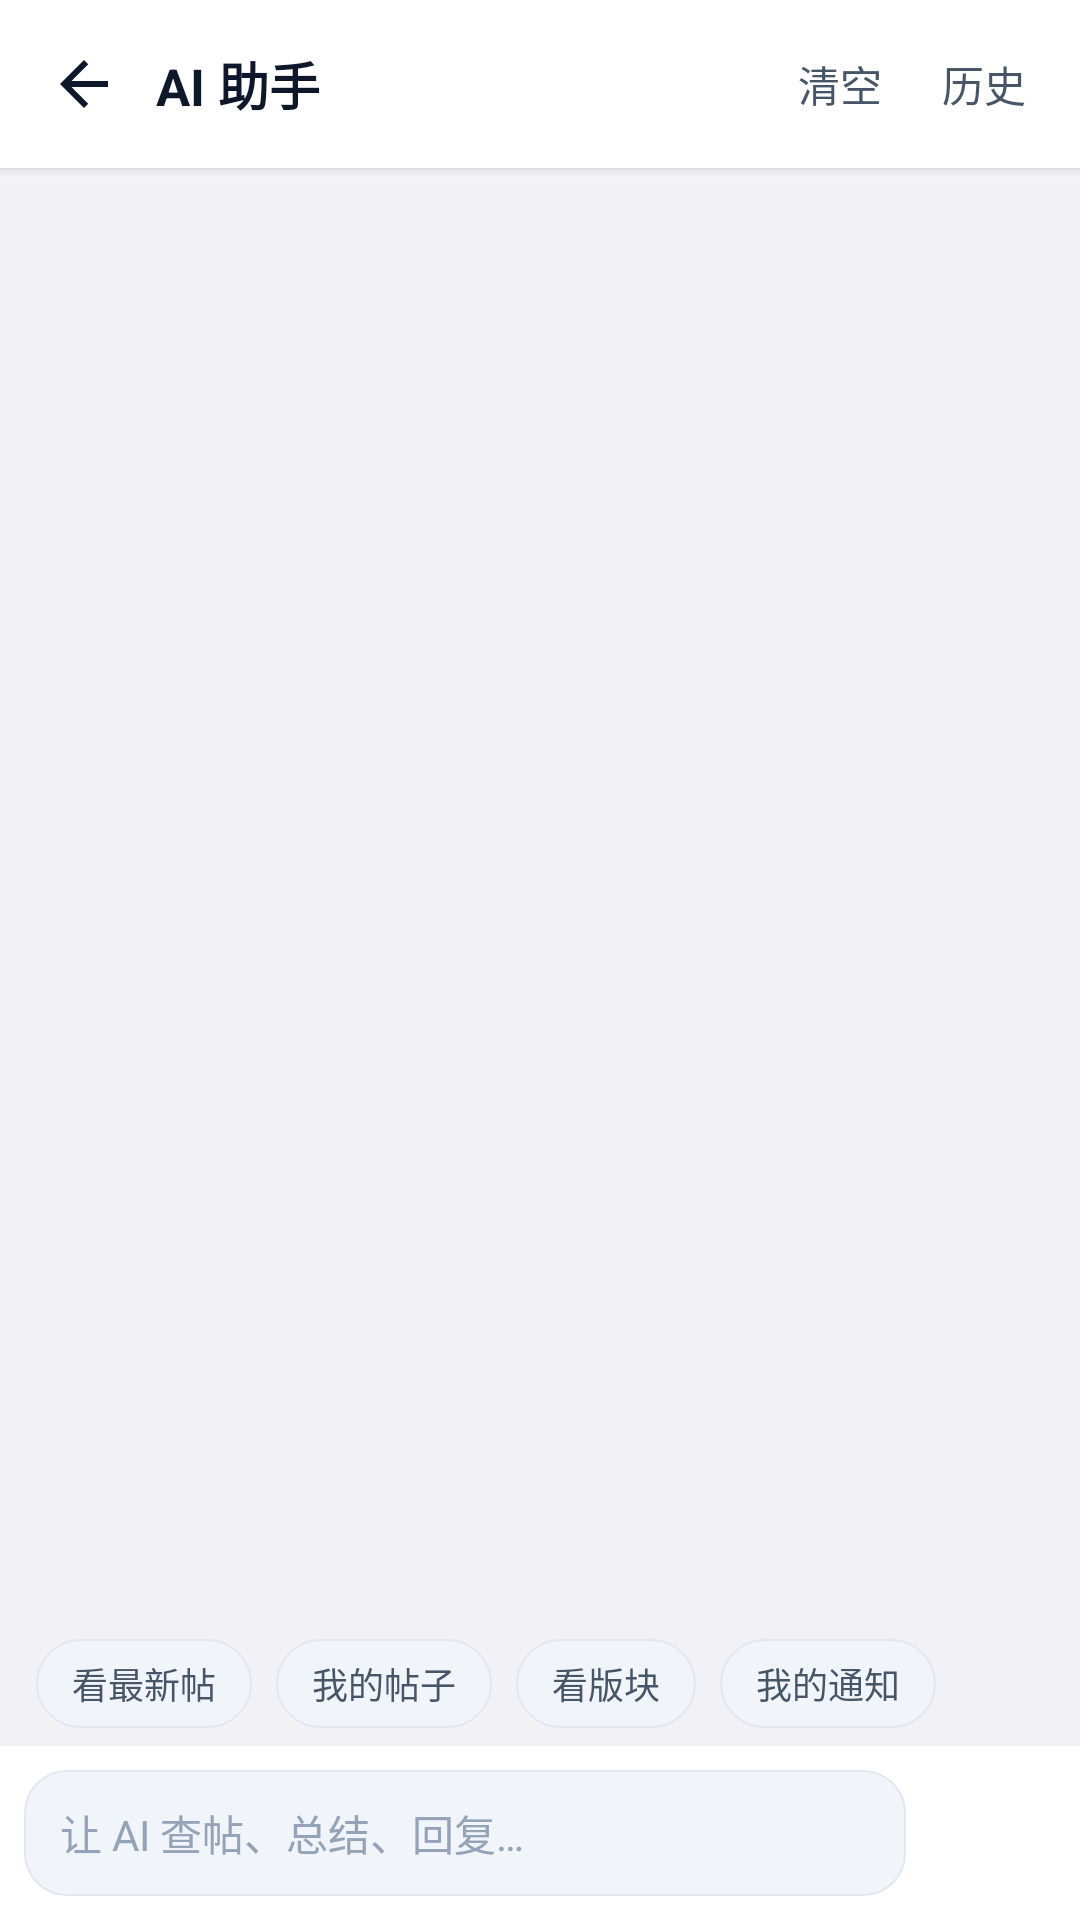

Where icons sit on this 1080w x 1920h app screen, as [x1=x1, y1=y1, x2=x2, y2=y2]:
返回: [x1=60, y1=60, x2=108, y2=108]
